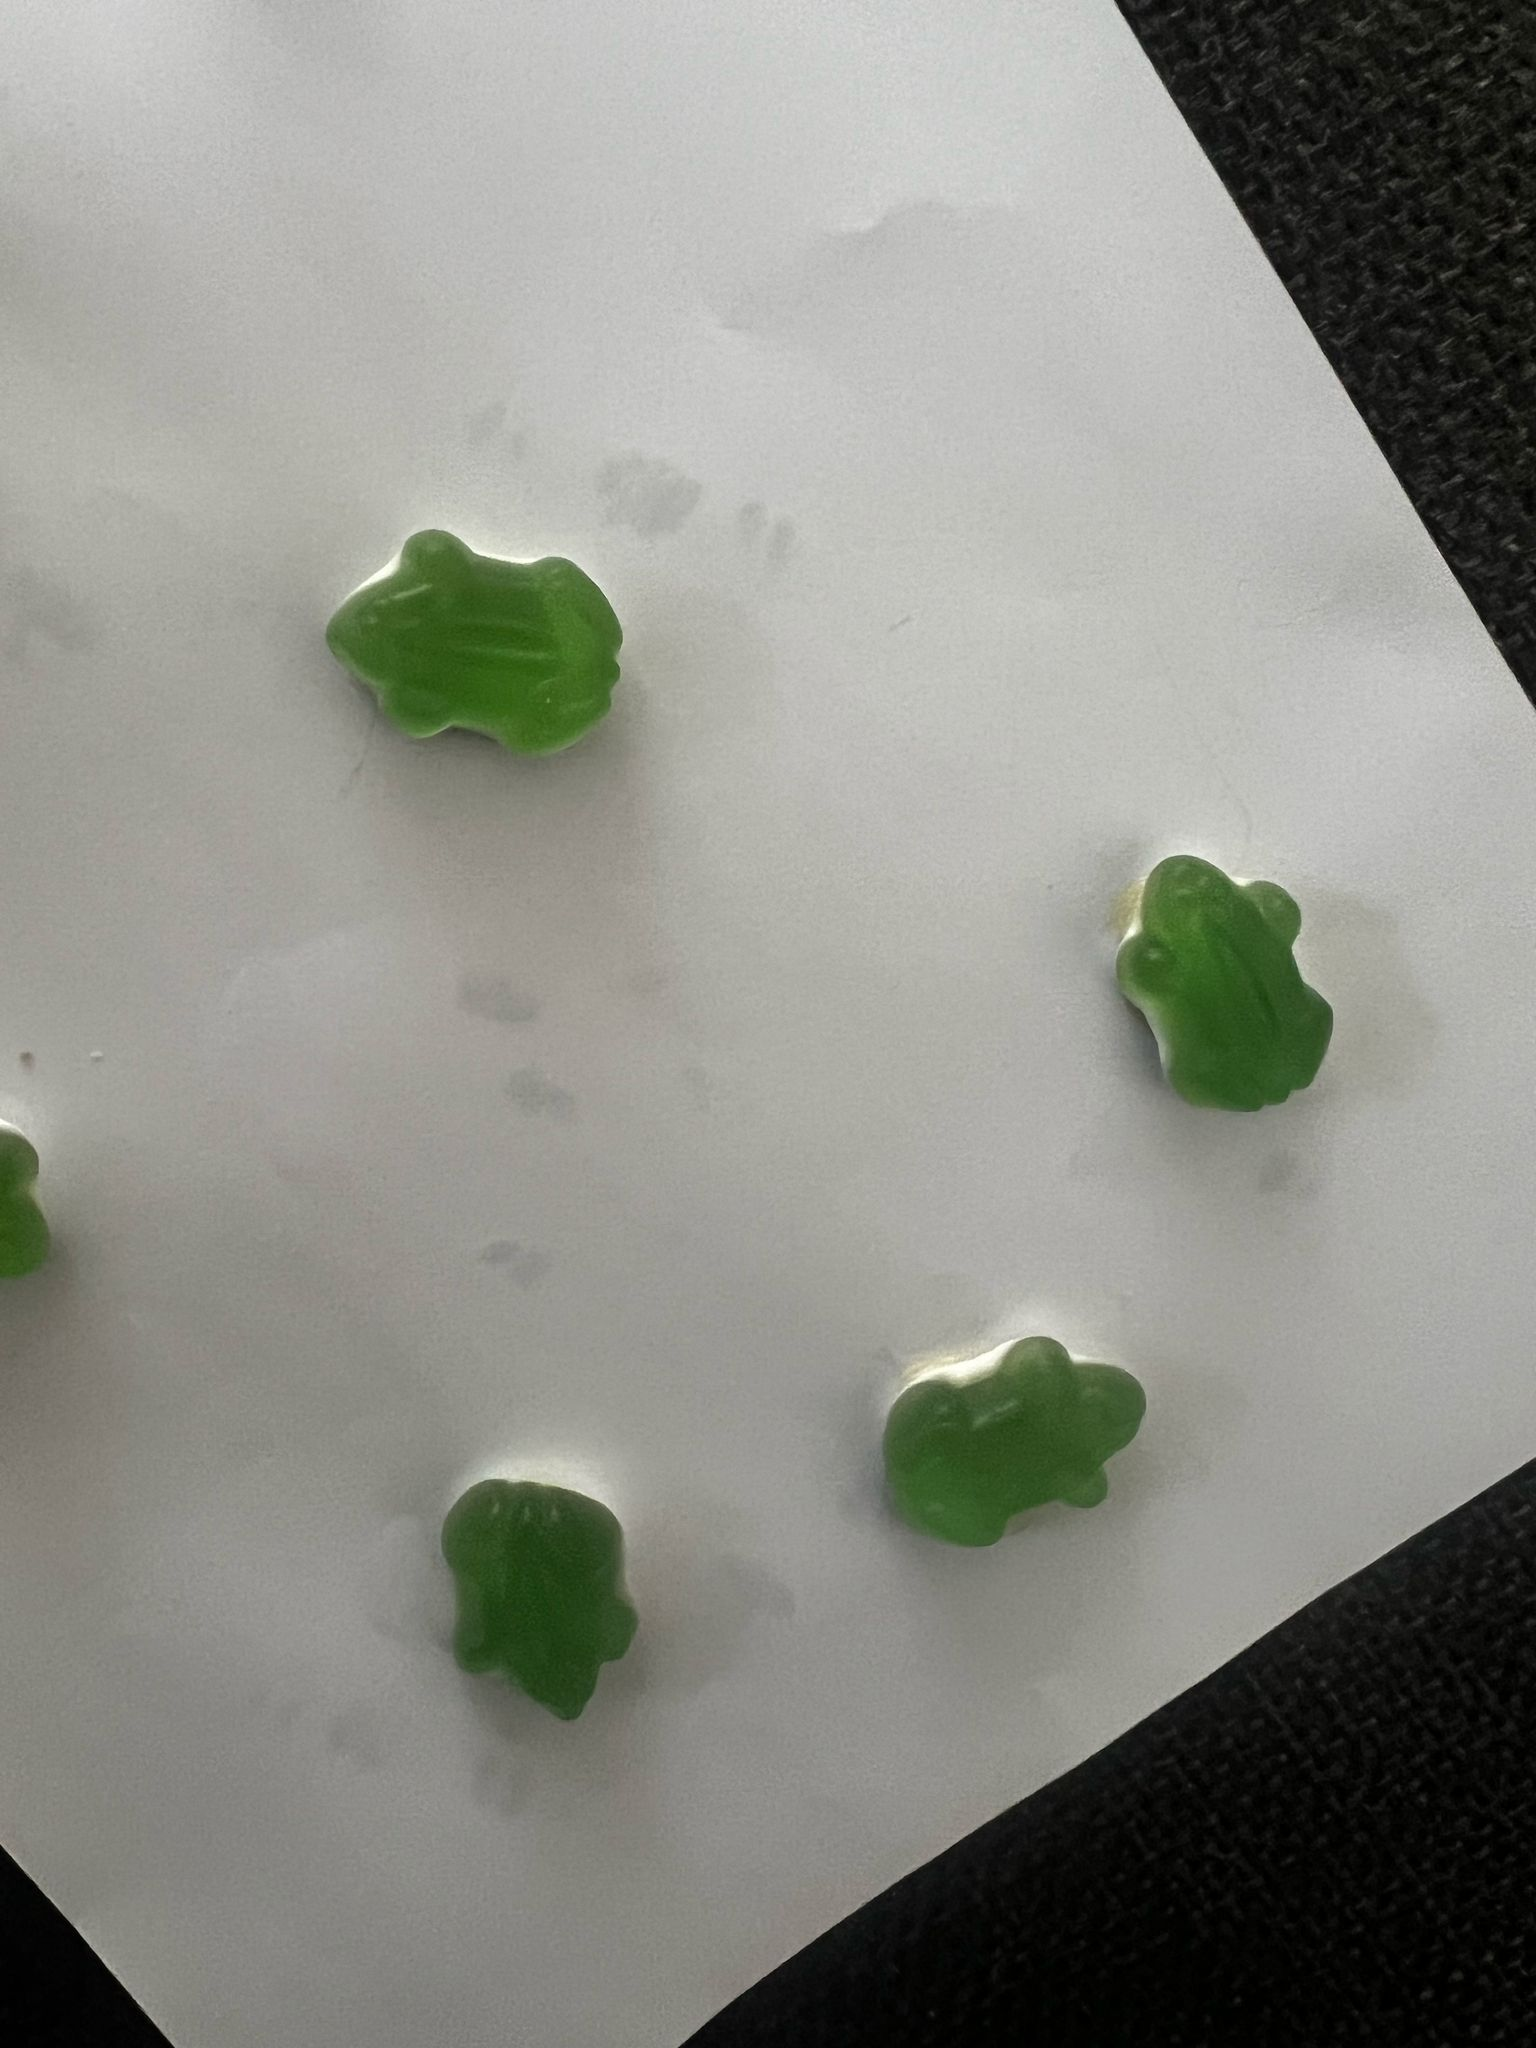frog: (307, 521, 645, 776), (1107, 848, 1349, 1119), (870, 1321, 1152, 1553), (437, 1455, 650, 1729)
